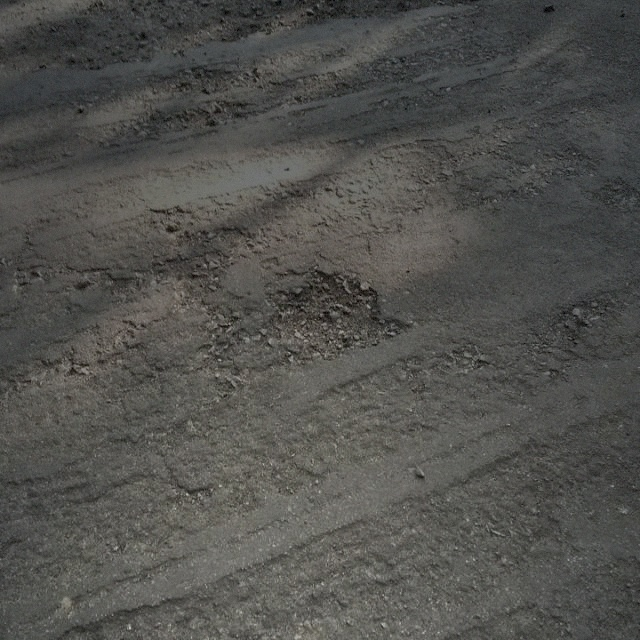pothole: (259, 268, 409, 364), (163, 98, 247, 132), (159, 64, 241, 94)
